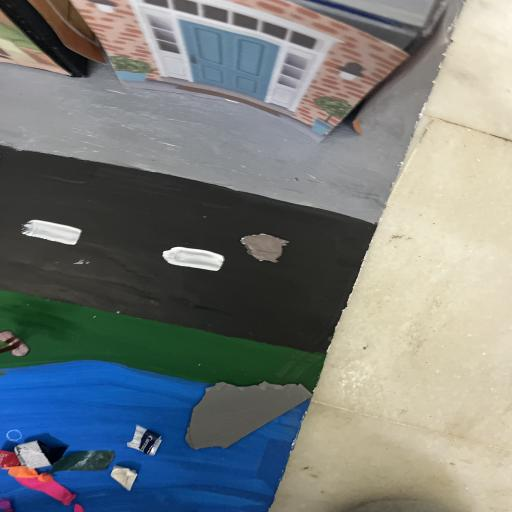encroachment: (181, 379, 313, 454)
porthole: (235, 232, 292, 264)
trash: (2, 424, 162, 512)
